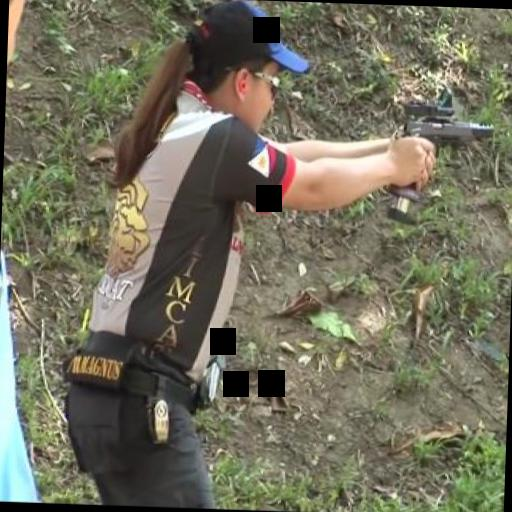Handgun: (378, 101, 492, 223)
